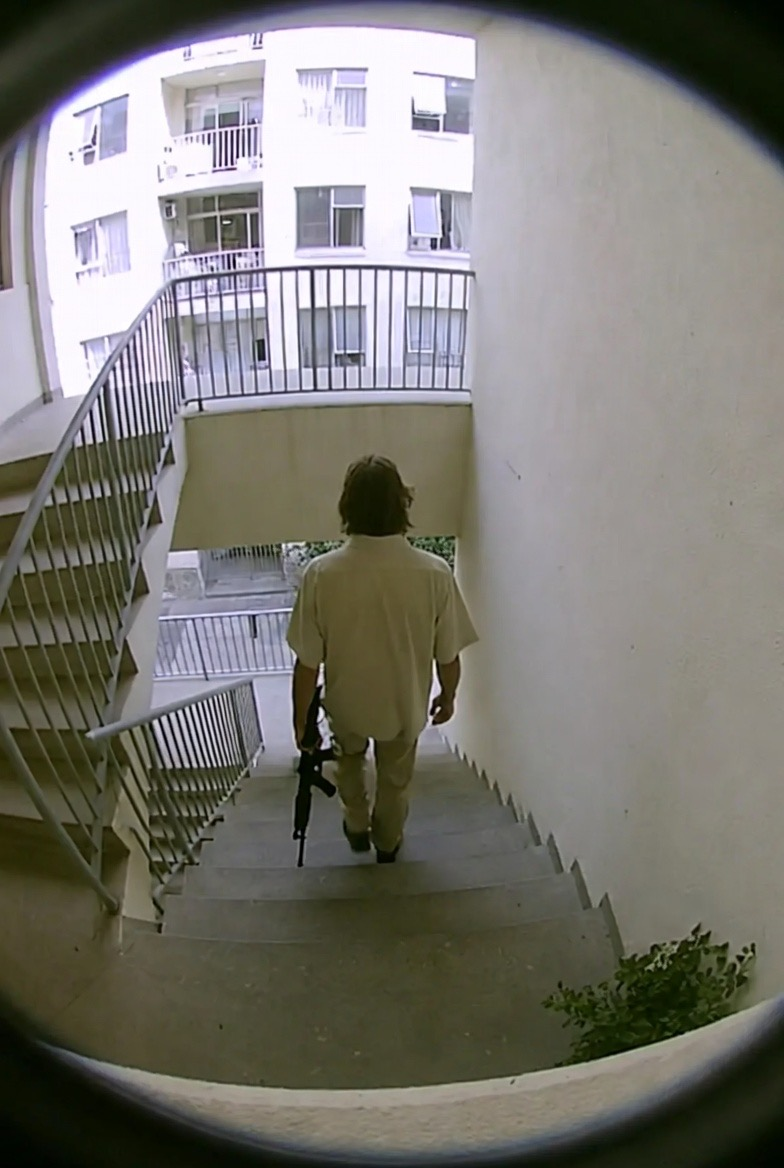person: (285, 453, 481, 865)
weapon: (291, 665, 337, 867)
